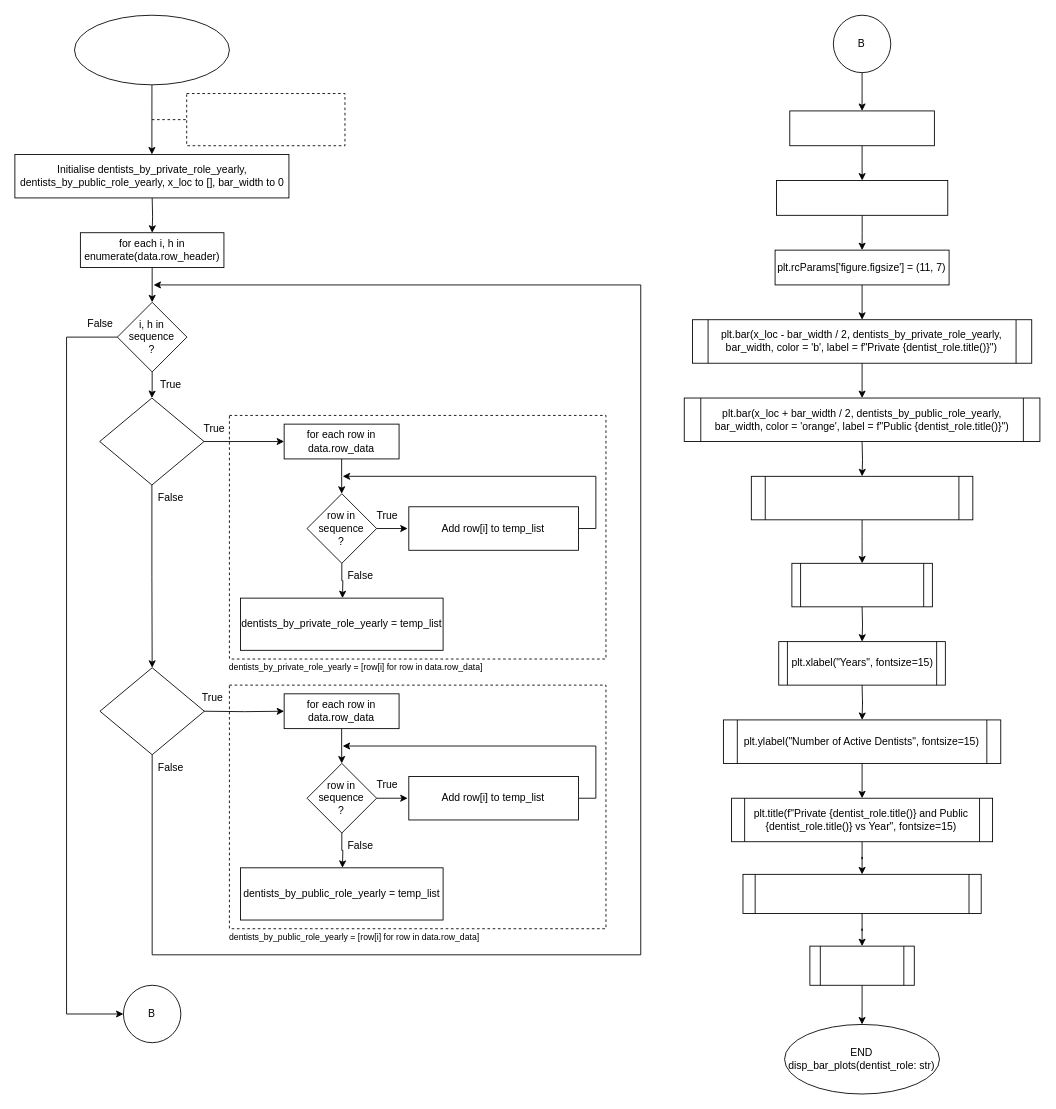
Some shapes in this 1056 by 1109 pixel diagram are drawn without their labels. Here are the shapes that lost their labels. From the top down, the box of each, then its label:
(74, 14, 229, 85): START disp_bar_plots(dentist_role: str)
(186, 93, 345, 146): import data import numpy as np import matplotlib.pyplot as plt
(789, 110, 934, 146): bar_width = 0.4
(776, 180, 948, 215): x_loc = np.arange(len(data.years))
(99, 397, 204, 485): "private " + dentist_role in h.lower() ?
(750, 475, 973, 520): plt.xticks(x_loc, data.years, fontsize=12)
(791, 562, 932, 607): plt.yticks(fontsize=12)
(99, 667, 204, 755): "public " + dentist_role in h.lower() ?
(742, 873, 981, 914): plt.legend(loc = 'upper left', fontsize=14)
(809, 945, 914, 985): plt.show()
